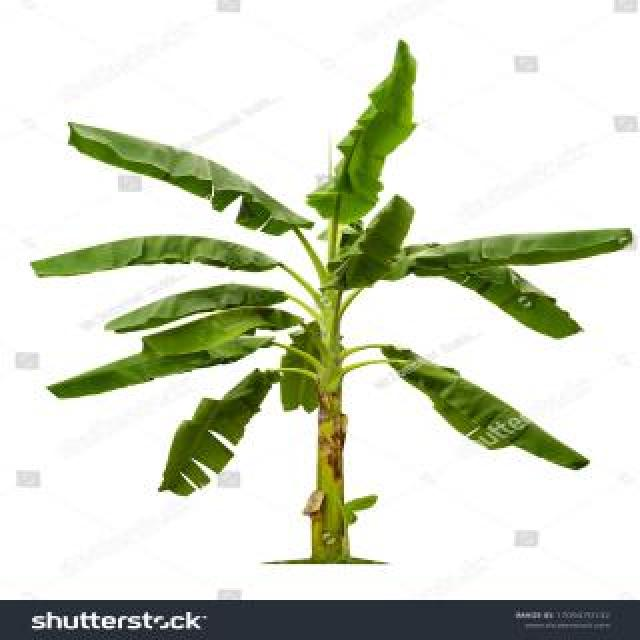Pisang: (43, 57, 612, 566)
